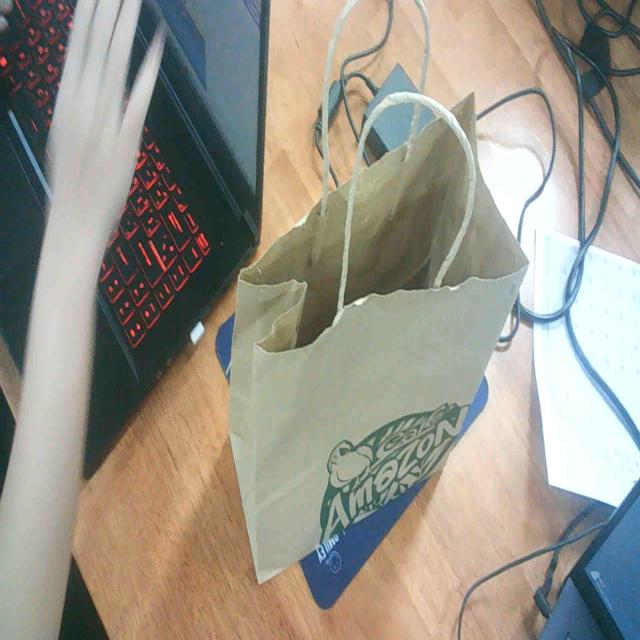bag: (224, 85, 522, 615)
